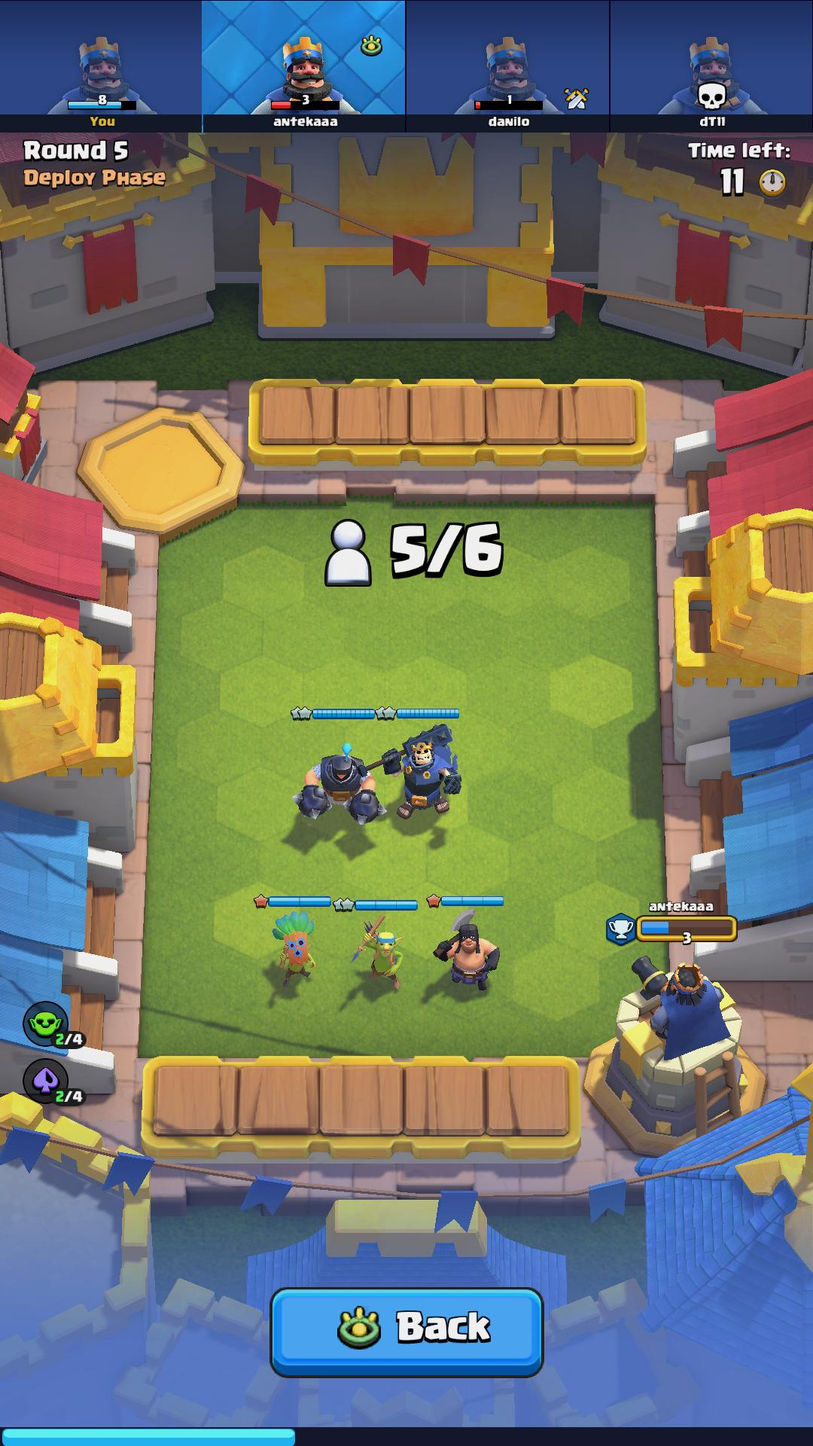dart: (272, 908, 319, 986)
executioner: (435, 912, 504, 994)
king: (384, 725, 459, 823)
mega: (297, 741, 385, 825)
spear: (349, 914, 410, 987)
